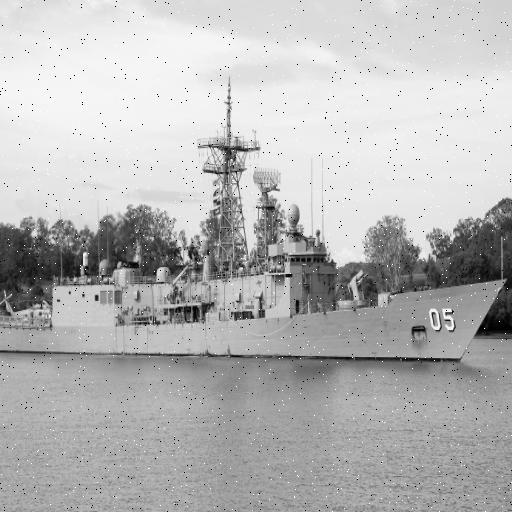Fragata: (1, 66, 512, 370)
